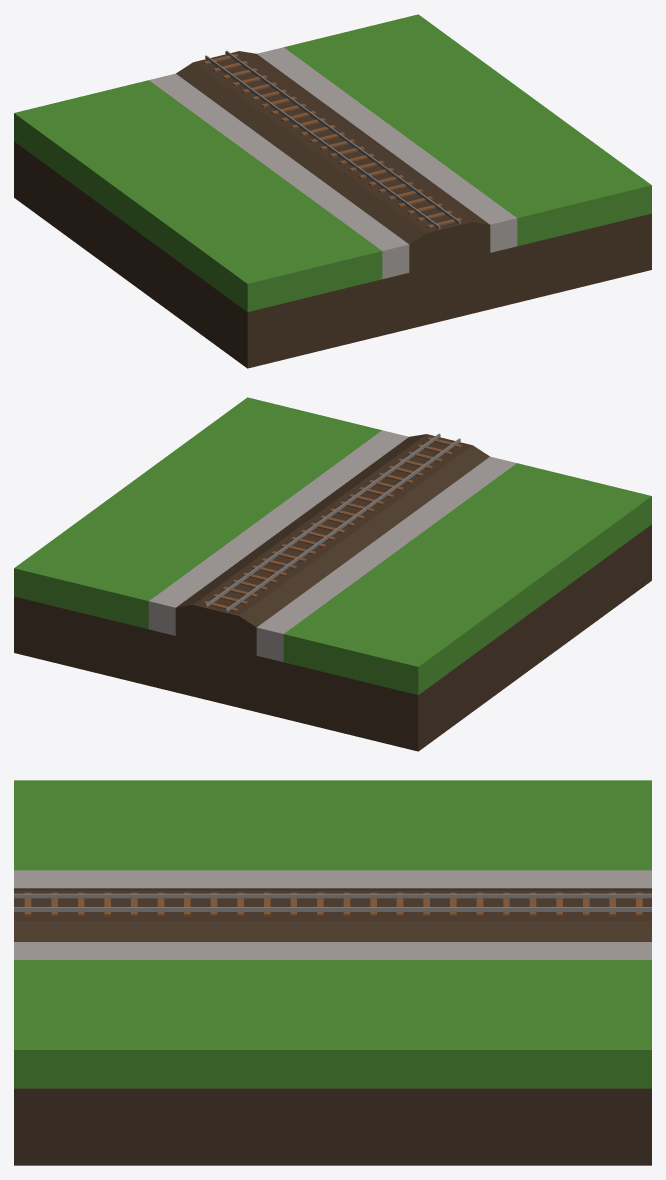
File: tiles_tile-rail-straight.fbx
The picture shows the model from 3 angles, top to bottom: view 1: azimuth 30°, elevation 25°; view 2: azimuth 150°, elevation 25°; view 3: azimuth 270°, elevation 25°; orthographic projection. The views are drawn at different scales.
Visible parts, largest first — view 1: tiles_tile_rail_straight; view 2: tiles_tile_rail_straight; view 3: tiles_tile_rail_straight.
Boxes of the visible parts, x1,y1,x2,y2 form: tiles_tile_rail_straight: (14,14,651,368); tiles_tile_rail_straight: (14,397,651,751); tiles_tile_rail_straight: (14,780,651,1165).
Bounding box in the file's own units: 200 × 44.97 × 200.
